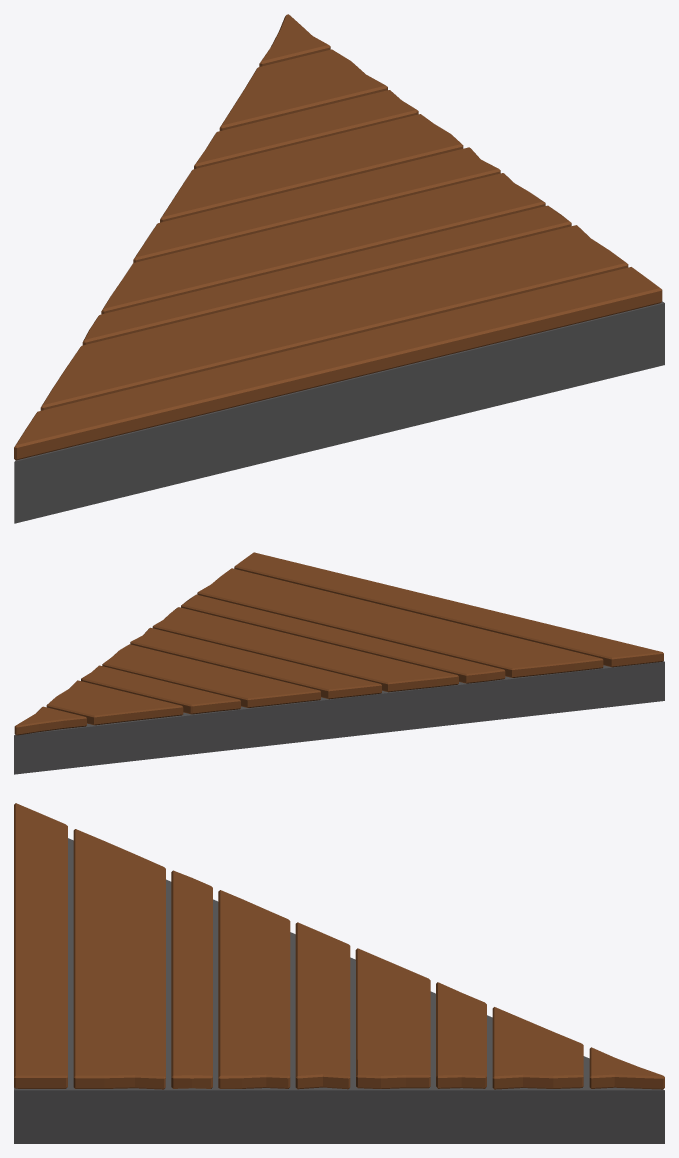
The model's file is ww_foundation_c.glb.
The picture shows the model from 3 angles, top to bottom: view 1: azimuth 30°, elevation 25°; view 2: azimuth 150°, elevation 25°; view 3: azimuth 270°, elevation 25°; orthographic projection. The views are drawn at different scales.
Visible parts, largest first — view 1: Foundation_C; view 2: Foundation_C; view 3: Foundation_C.
Boxes of the visible parts, x1,y1,x2,y2 form: Foundation_C: [14, 14, 664, 523]; Foundation_C: [14, 552, 664, 774]; Foundation_C: [14, 803, 664, 1143].
Bounding box in the file's own units: 5.28 × 0.5981 × 5.28.
